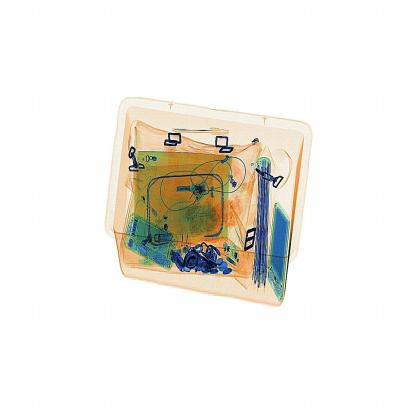pliers: (168, 112, 236, 151)
